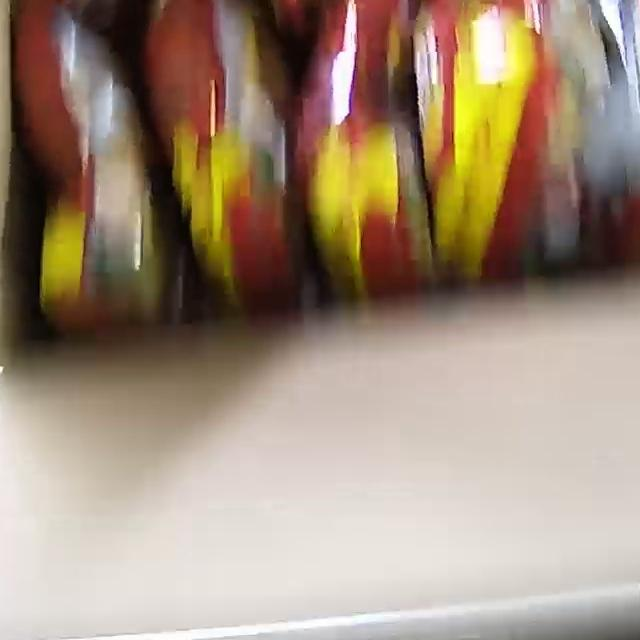masala: (0, 0, 640, 287)
